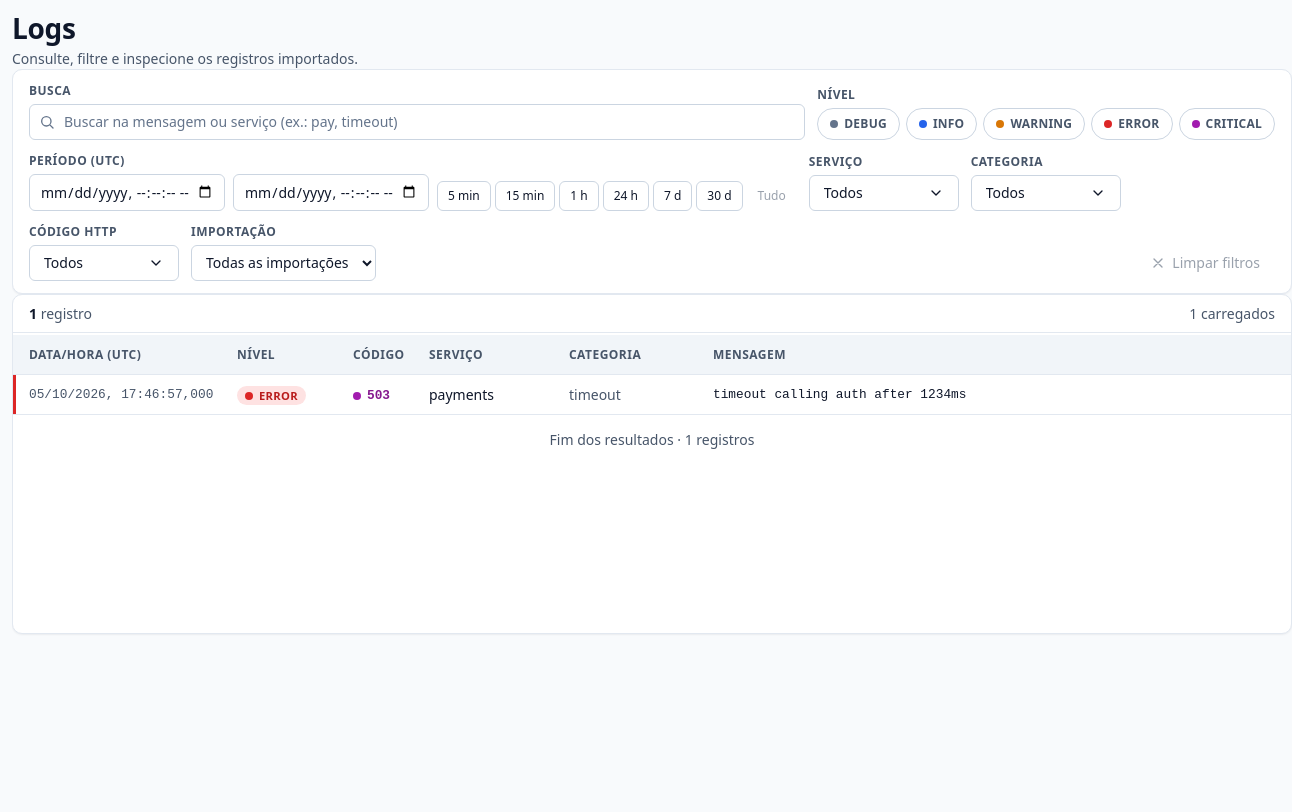
LogsPage › offers HTTP status classes and codes from the facets and sends `status` to the API
The image size is (1292, 812).
Click the button with aria-label "Código HTTP: Todos". click: x=104, y=263
box: [29,245,179,281]
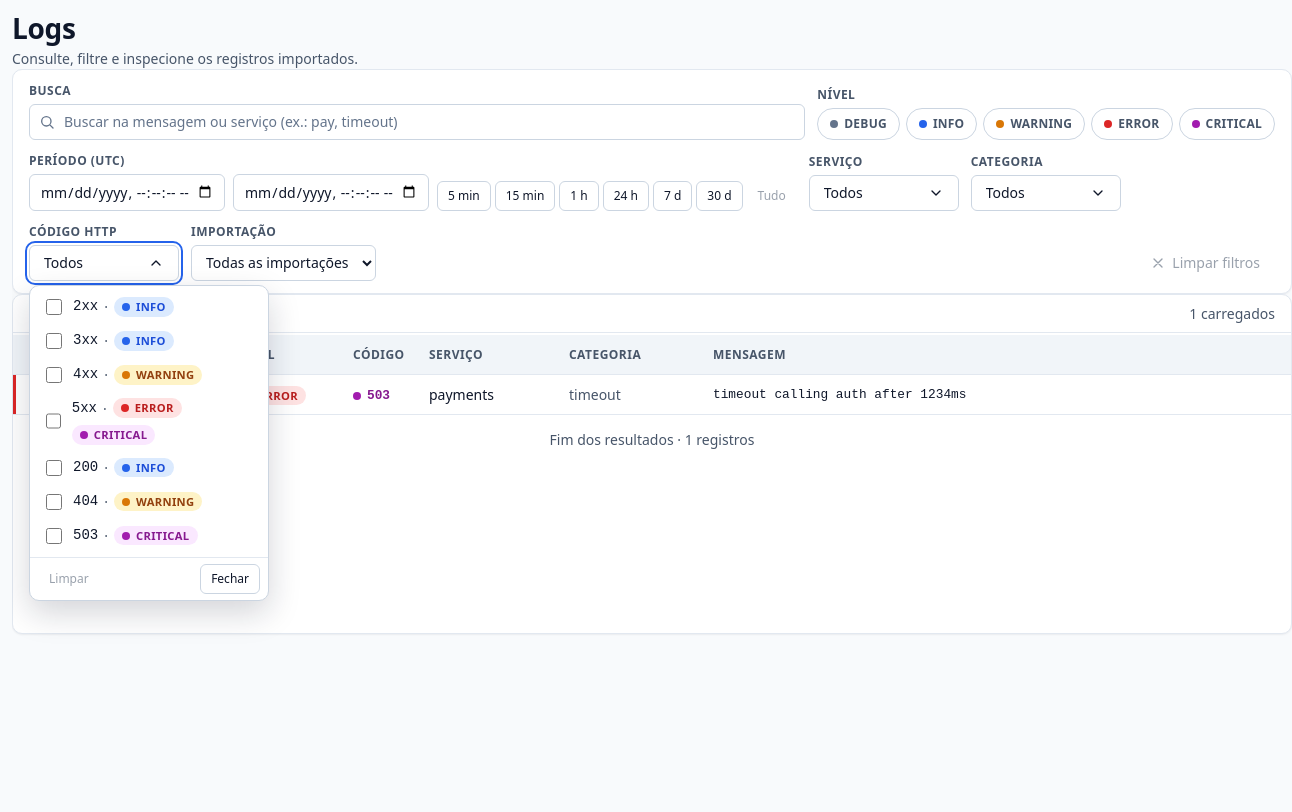
Click the checkbox labelled "404 · WARNING". click: x=54, y=502
box: [46,494,62,510]
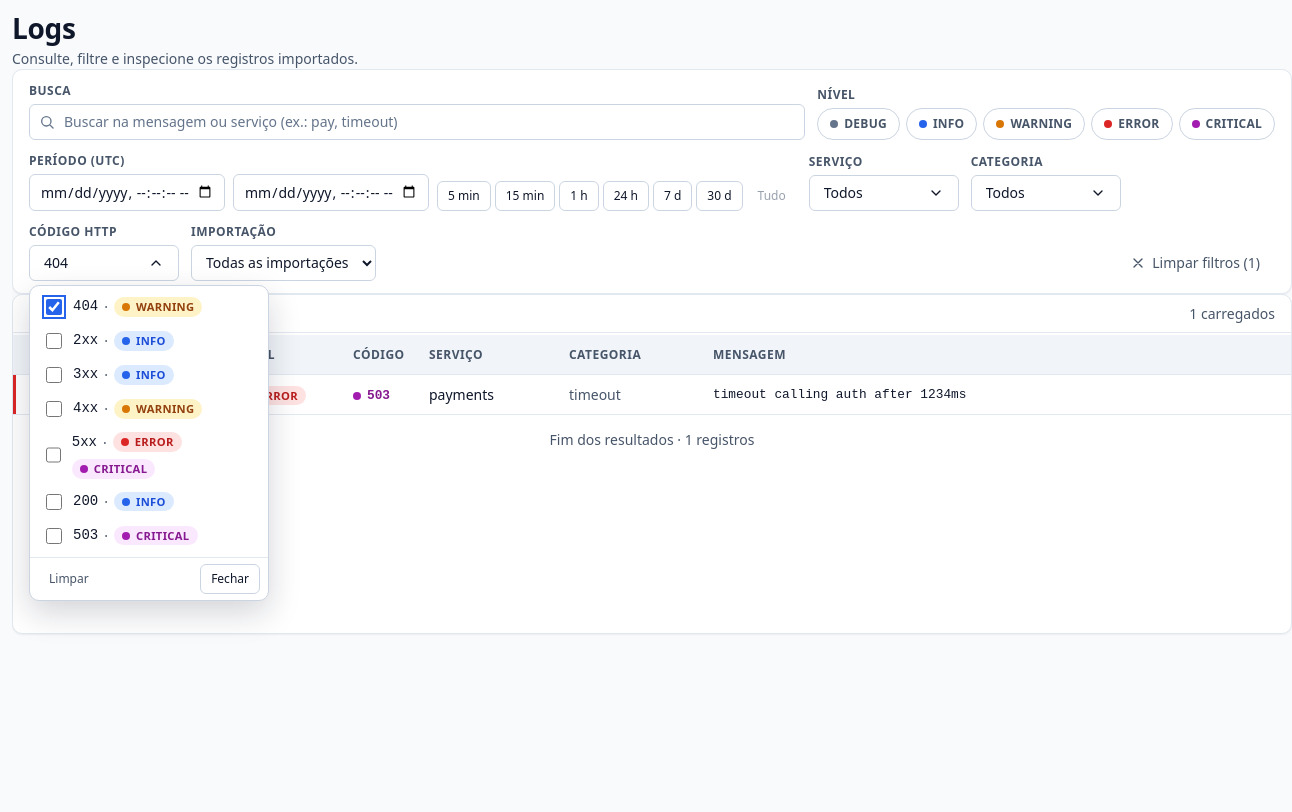
Click the checkbox labelled "5xx · ERROR CRITICAL". click: x=53, y=455
box: [46,447,61,463]
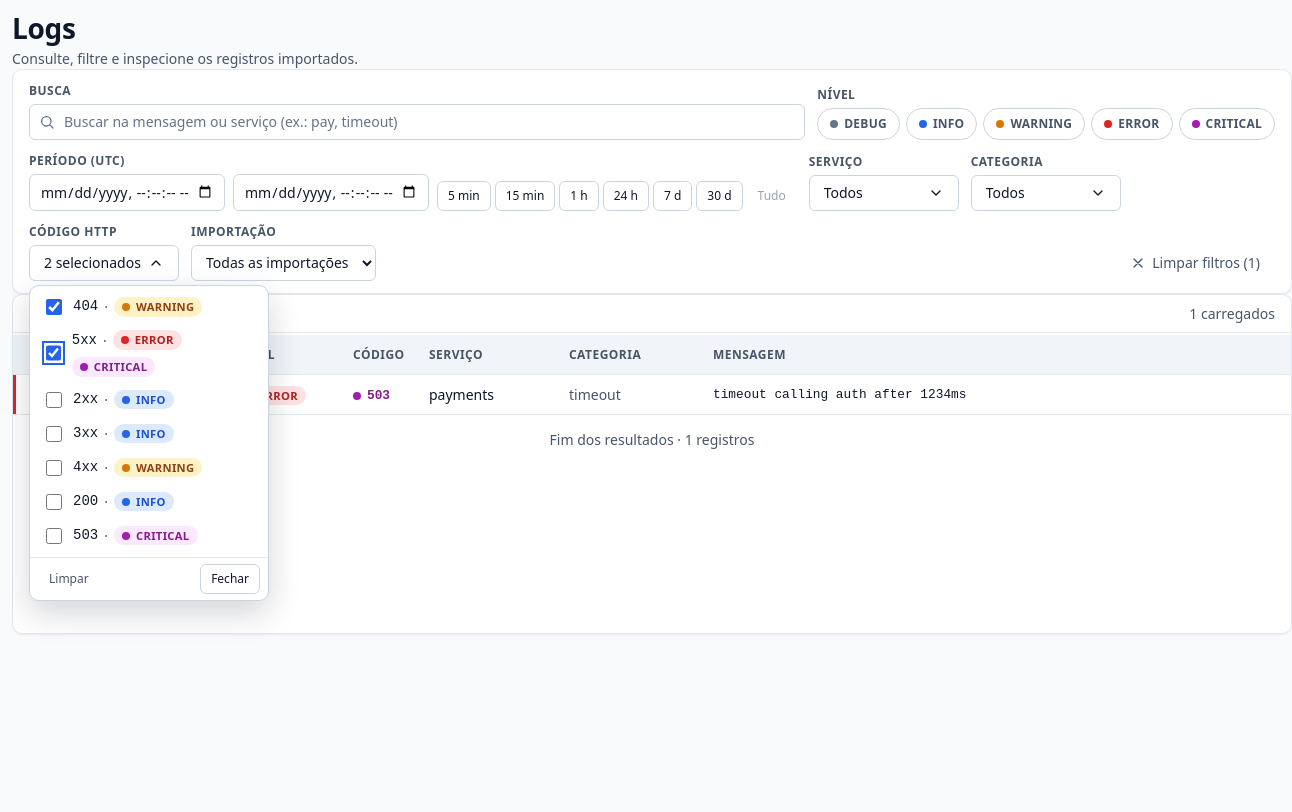
Expected: the button with aria-label "Código HTTP: 2 selecionados" is shown, [29,245,179,281]
